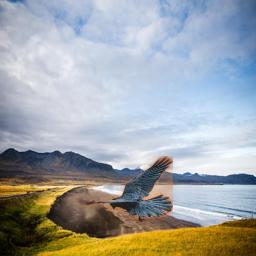Crow: (76, 156, 173, 222)
